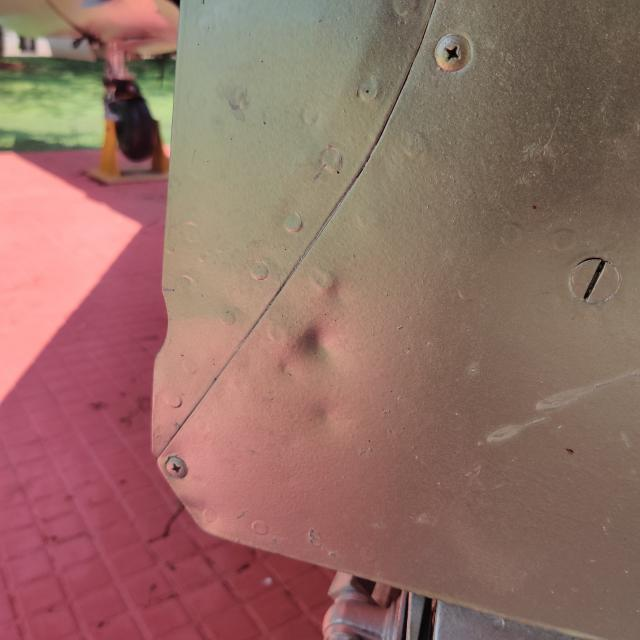dent: (266, 296, 378, 392)
